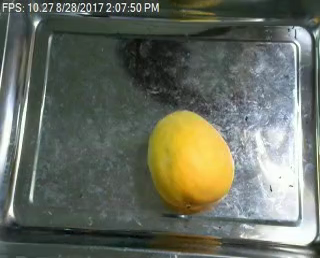Mango: (143, 109, 237, 209)
